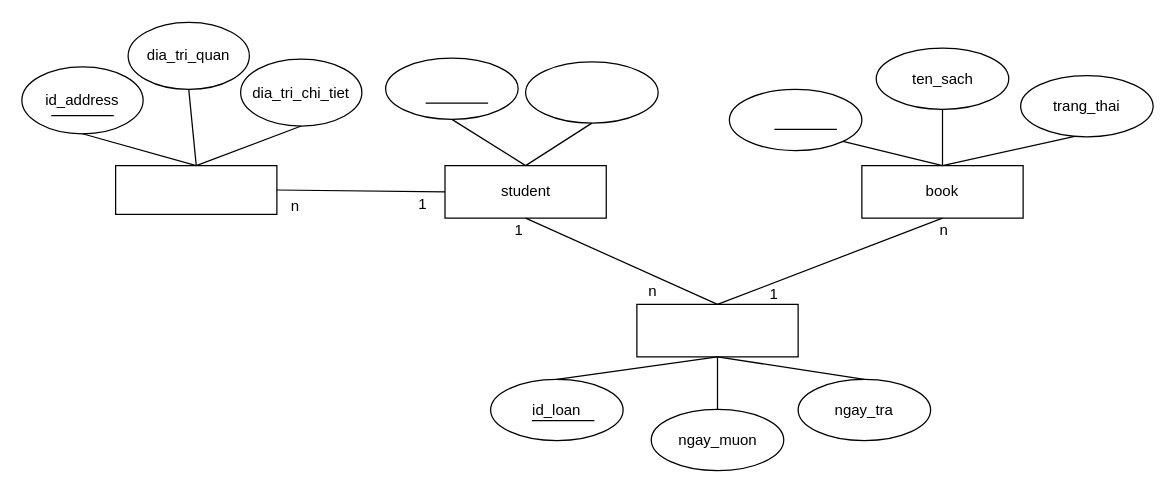
This 1175x493 diagram has some shape labels left out. The shapes that lost their labels are listed below. From the top down, each one's centre as x and y in pixels, then its label:
At [451,88]: "id_student".
At [591,92]: "full_name".
At [795,119]: "id_book".
At [195,189]: "address".
At [717,330]: "loan_card".
